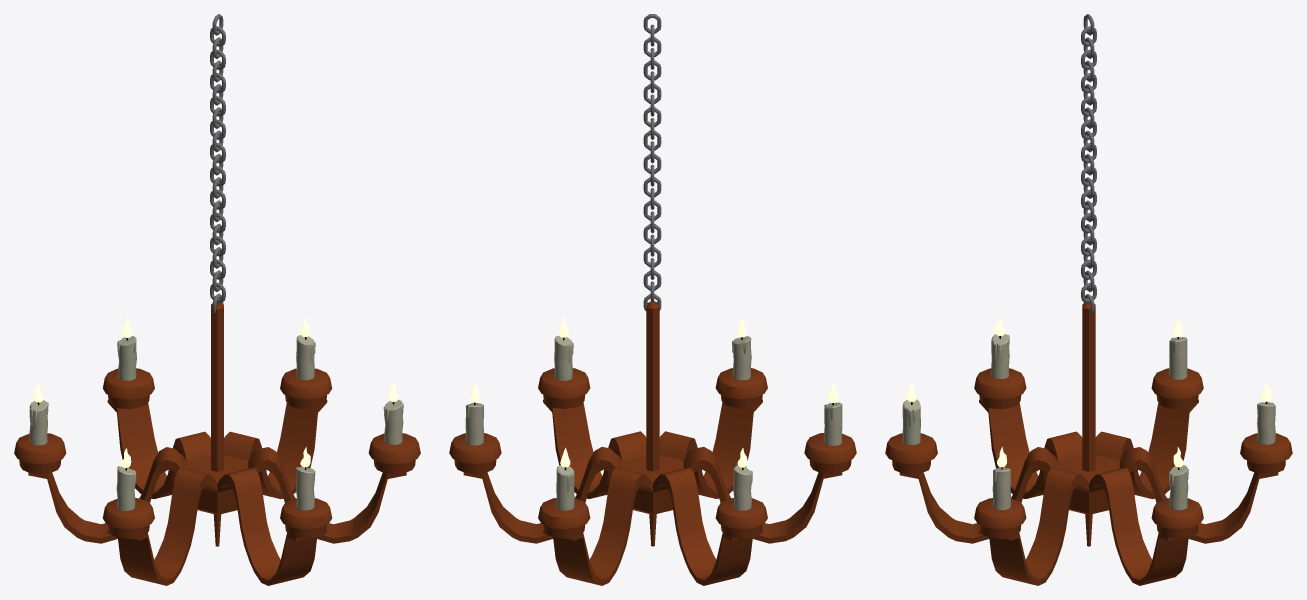
The model's file is Chandelier.fbx.
The picture shows the model from 3 angles, left to right: view 1: azimuth 30°, elevation 25°; view 2: azimuth 150°, elevation 25°; view 3: azimuth 270°, elevation 25°; orthographic projection.
Parts seen in each view (by area): view 1: Chandelier; view 2: Chandelier; view 3: Chandelier.
Boxes of the visible parts, x1=… form: Chandelier: x1=14, y1=14, x2=420, y2=585; Chandelier: x1=449, y1=14, x2=856, y2=585; Chandelier: x1=885, y1=14, x2=1292, y2=585.
Size of the model in its own units: 177 by 289 by 201.
